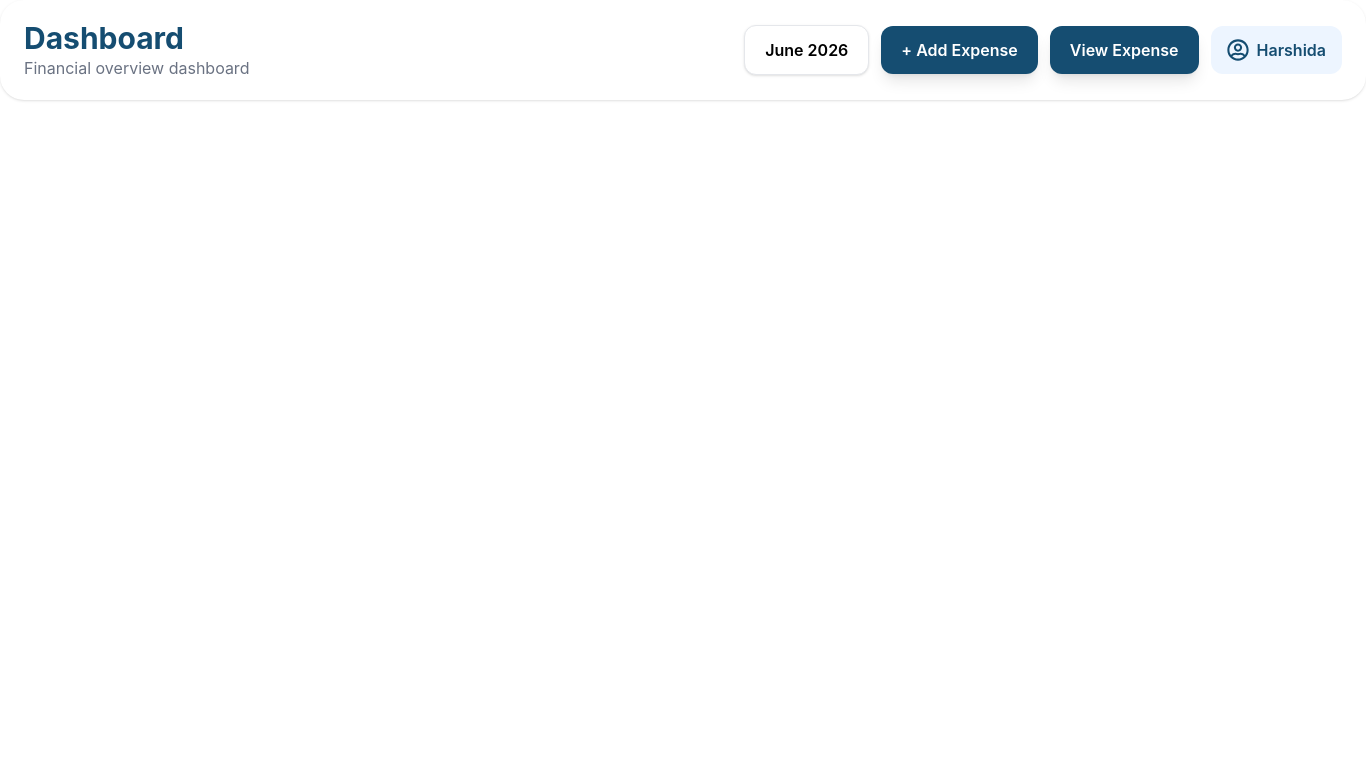
Scenario: Navbar › closes logout modal when No button is clicked
Click the text "Harshida": {"x": 1291, "y": 50} [1257,38,1326,62]
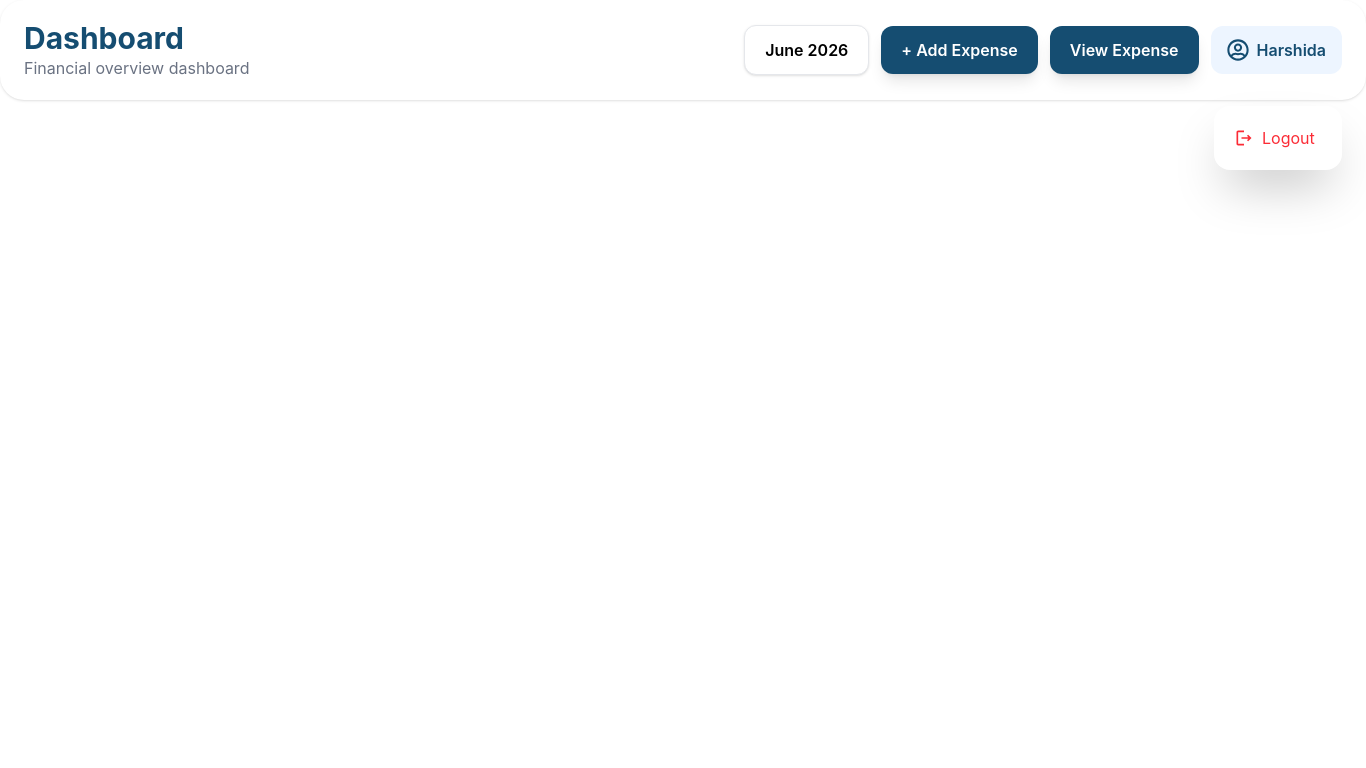
Click the button "Logout": {"x": 1278, "y": 138} [1222,114,1334,162]
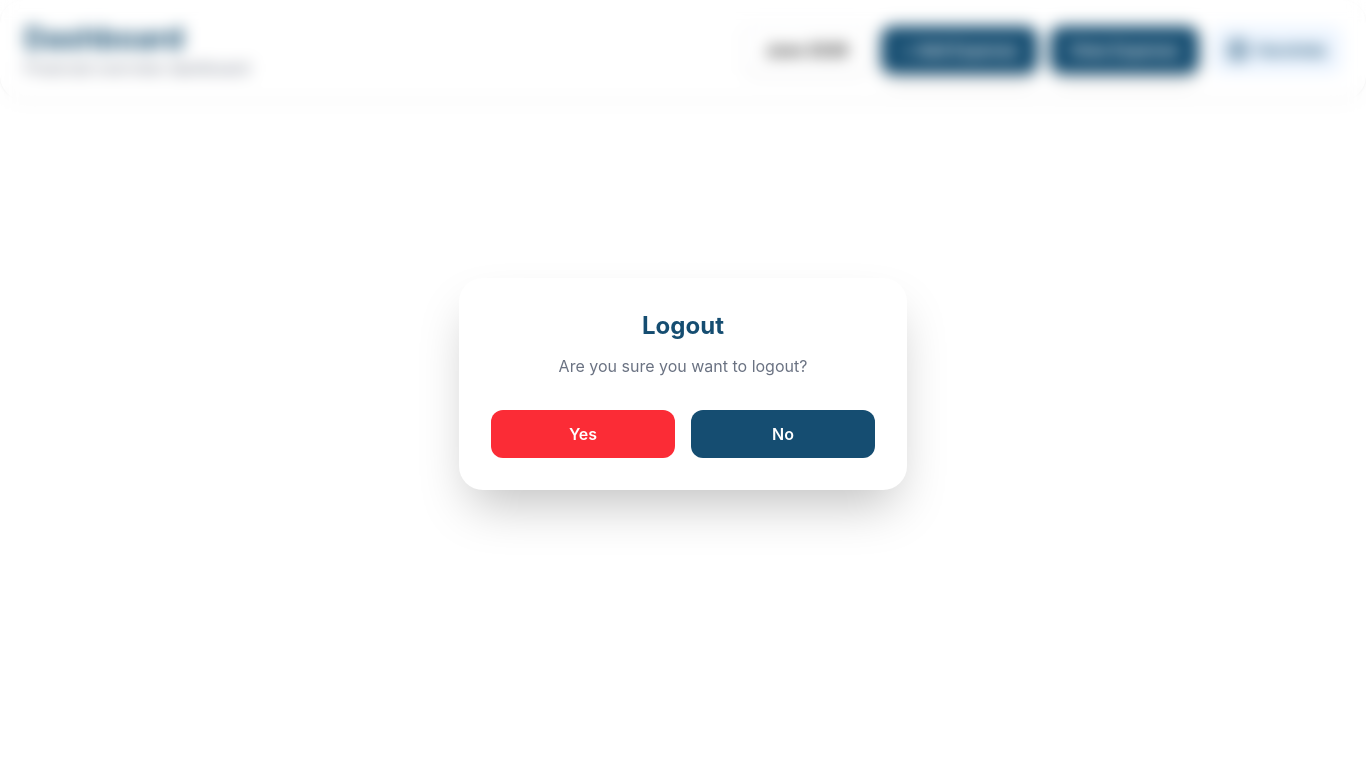
Click the button "No": {"x": 783, "y": 434} [691,410,875,458]
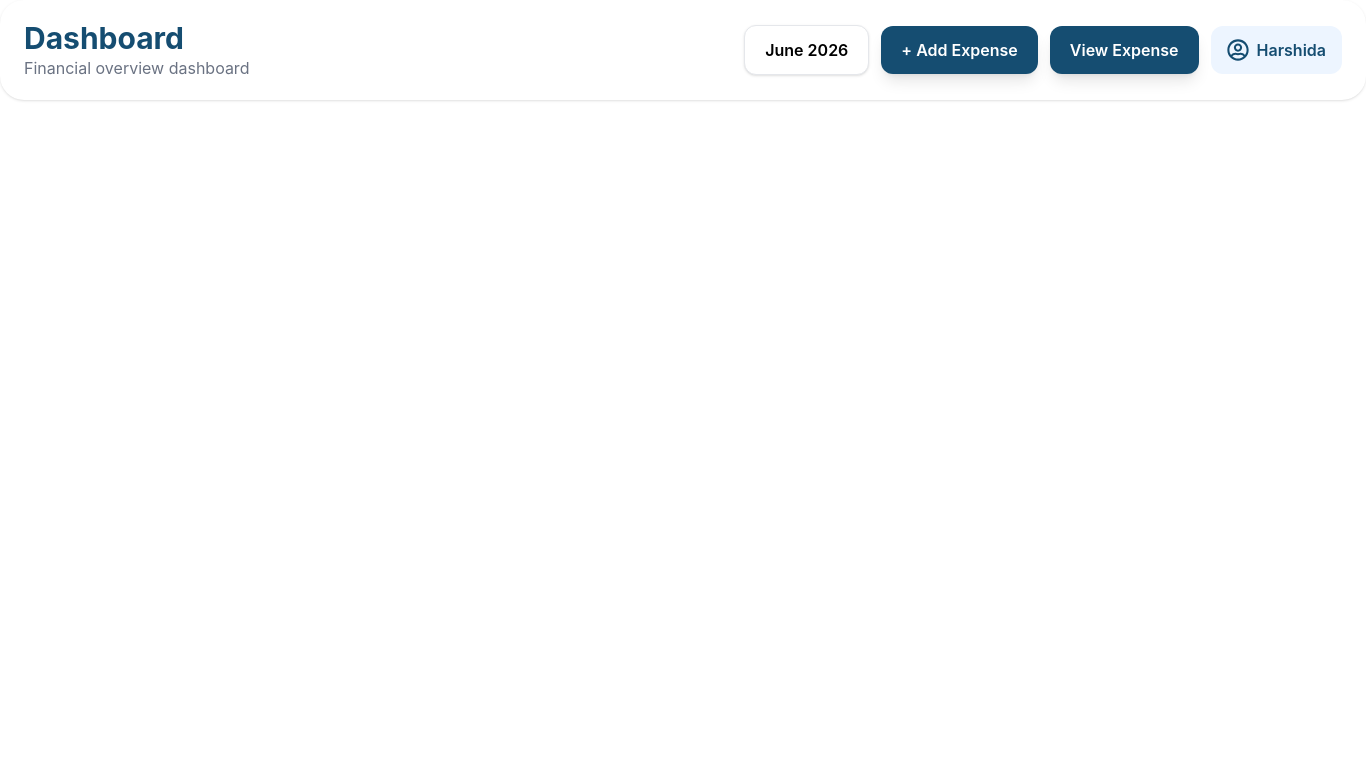
Expected: the text "Are you sure" is gone
